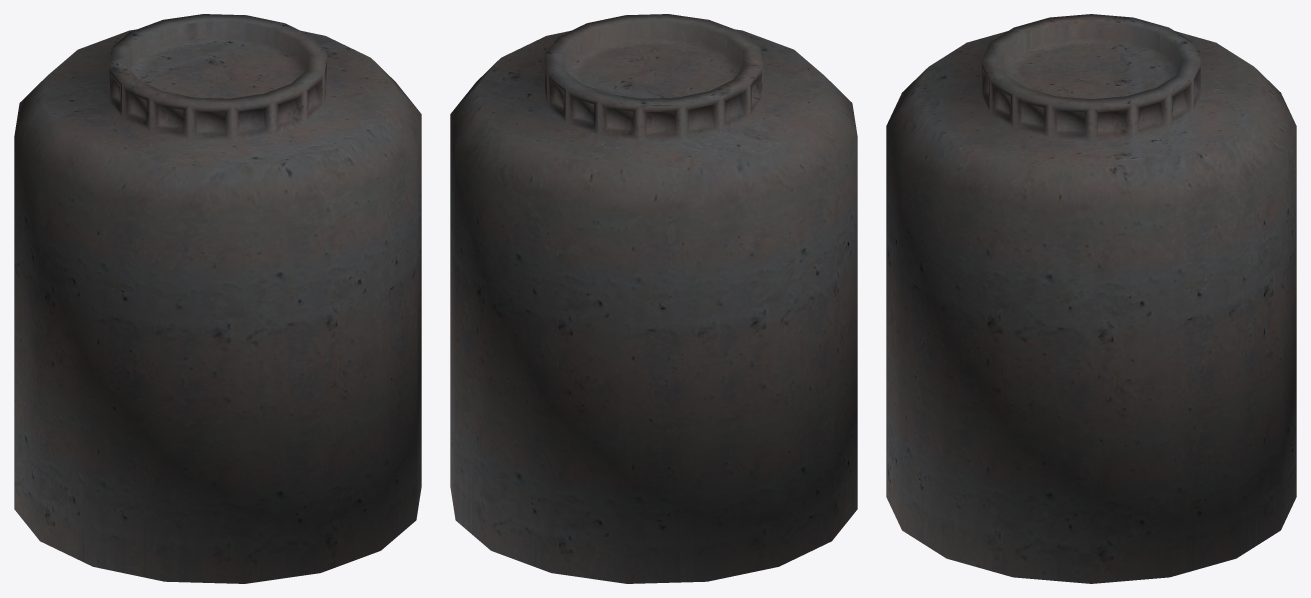
File: cilindro.glb
The picture shows the model from 3 angles, left to right: view 1: azimuth 30°, elevation 25°; view 2: azimuth 150°, elevation 25°; view 3: azimuth 270°, elevation 25°; orthographic projection.
Visible parts, largest first — view 1: Cylinder.002; view 2: Cylinder.002; view 3: Cylinder.002.
Boxes of the visible parts, left/top/right/bottom form: Cylinder.002: left=14, top=14, right=421, bottom=583; Cylinder.002: left=450, top=14, right=857, bottom=583; Cylinder.002: left=886, top=14, right=1296, bottom=583.
Size of the model in its own units: 2.82 by 3.31 by 2.82.
1 material, 1 textured.
